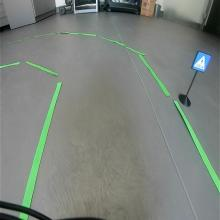crosswalk: (191, 50, 211, 73)
